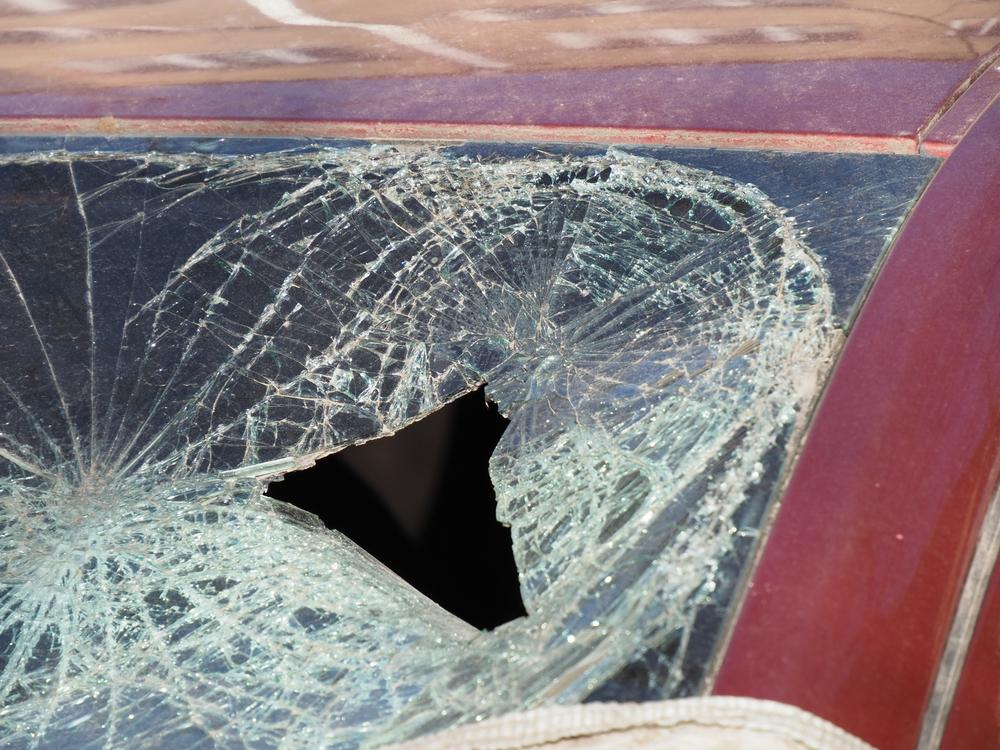glass shatter: (0, 136, 944, 750)
